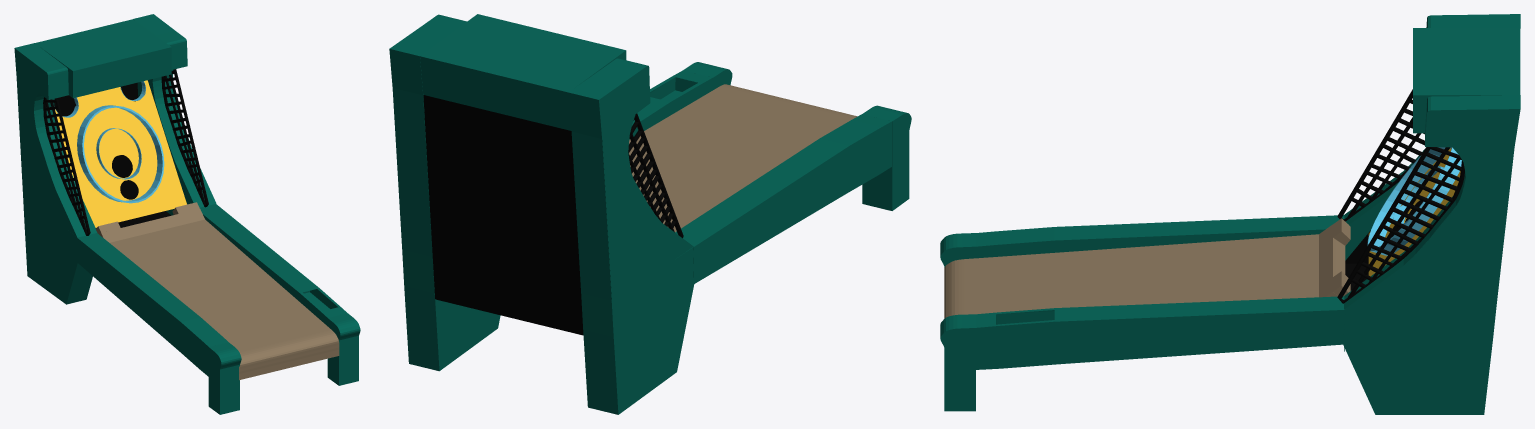
The model's file is Ultimate skii ball.fbx.
The picture shows the model from 3 angles, left to right: view 1: azimuth 30°, elevation 25°; view 2: azimuth 150°, elevation 25°; view 3: azimuth 270°, elevation 25°; orthographic projection. The views are drawn at different scales.
Visible parts, largest first — view 1: Body Center, upperleg + Score Left, Backboard layer 1, Body Left, ScoreBoard, Body Righrt, upperleg + Score, BottomeLeg Left, Net Left, Net, BottomLeg, Score Ring Center (+2 smaller); view 2: BackBoard layer 2, upperleg + Score Left, Body Center, ScoreBoard, upperleg + Score, Body Left, BottomeLeg Left, Body Righrt, Net Left, BottomLeg; view 3: upperleg + Score, Body Center, Body Righrt, Body Left, ScoreBoard, Net, BottomLeg, Net Left, upperleg + Score Left, Score Ring Center, BottomeLeg Left, Backboard layer 1 (+1 smaller).
Boxes of the visible parts, x1=… form: Body Center: x1=96, y1=202, x2=339, y2=380; upperleg + Score Left: x1=14, y1=43, x2=97, y2=304; Backboard layer 1: x1=55, y1=80, x2=186, y2=227; Body Left: x1=77, y1=233, x2=228, y2=376; ScoreBoard: x1=35, y1=19, x2=171, y2=98; Body Righrt: x1=199, y1=204, x2=347, y2=325; upperleg + Score: x1=133, y1=14, x2=216, y2=215; BottomeLeg Left: x1=208, y1=342, x2=241, y2=414; Net Left: x1=43, y1=97, x2=90, y2=235; Net: x1=161, y1=69, x2=208, y2=207; BottomLeg: x1=327, y1=313, x2=360, y2=385; Score Ring Center: x1=77, y1=105, x2=164, y2=203; BackBoard layer 2: x1=423, y1=95, x2=583, y2=335; upperleg + Score Left: x1=568, y1=58, x2=694, y2=414; Body Center: x1=629, y1=84, x2=857, y2=232; ScoreBoard: x1=420, y1=14, x2=626, y2=130; upperleg + Score: x1=389, y1=14, x2=500, y2=371; Body Left: x1=675, y1=114, x2=891, y2=283; BottomeLeg Left: x1=862, y1=105, x2=911, y2=210; Body Righrt: x1=629, y1=70, x2=712, y2=139; Net Left: x1=628, y1=113, x2=683, y2=238; BottomLeg: x1=683, y1=62, x2=732, y2=89; upperleg + Score: x1=1343, y1=95, x2=1520, y2=414; Body Center: x1=944, y1=218, x2=1350, y2=318; Body Righrt: x1=976, y1=296, x2=1345, y2=369; Body Left: x1=976, y1=215, x2=1344, y2=258; ScoreBoard: x1=1413, y1=28, x2=1520, y2=133; Net: x1=1337, y1=147, x2=1464, y2=303; BottomLeg: x1=940, y1=314, x2=975, y2=411; Net Left: x1=1337, y1=89, x2=1424, y2=221; upperleg + Score Left: x1=1344, y1=14, x2=1520, y2=260; Score Ring Center: x1=1367, y1=147, x2=1461, y2=255; BottomeLeg Left: x1=940, y1=233, x2=975, y2=267; Backboard layer 1: x1=1368, y1=148, x2=1460, y2=276.
Bounding box in the file's own units: 528 × 791 × 1360.
